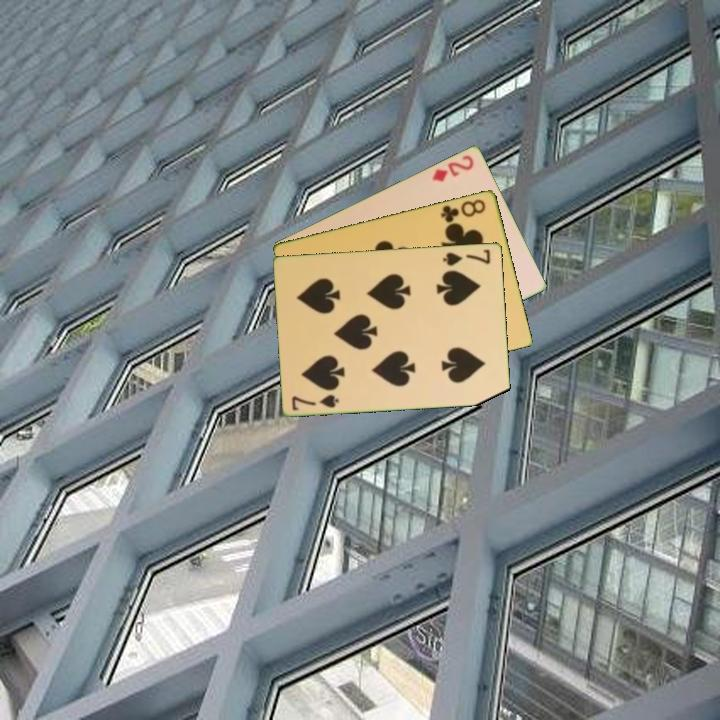2d: (428, 151, 477, 184)
7s: (440, 246, 494, 268), (288, 391, 342, 413)
8c: (437, 195, 489, 225)
